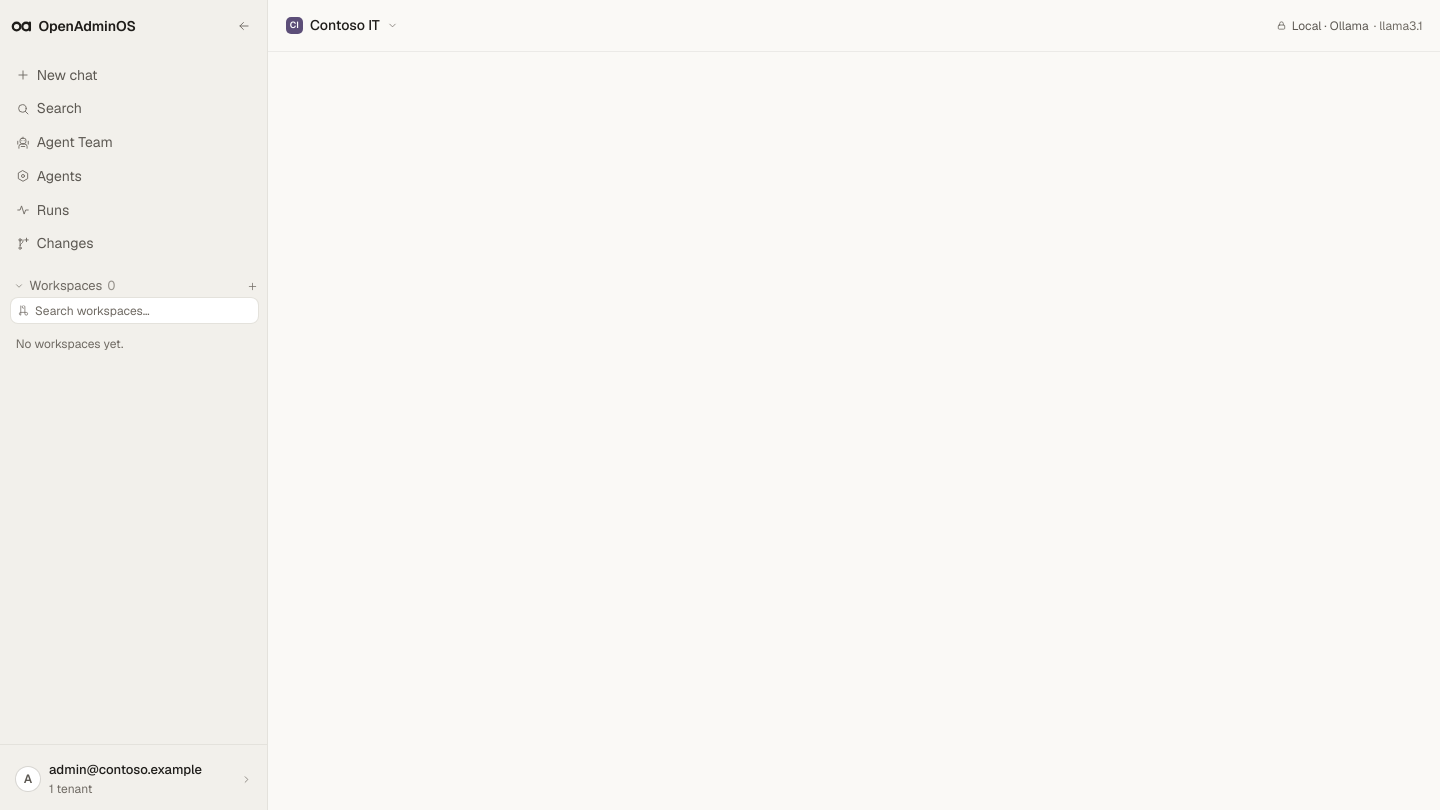
Test: Sidebar › opens the shared keyboard shortcut reference from the account menu
This screenshot has width=1440, height=810.
Click the button "A admin@contoso.example 1 tenant" at (134, 779), box [7,755,261,803]
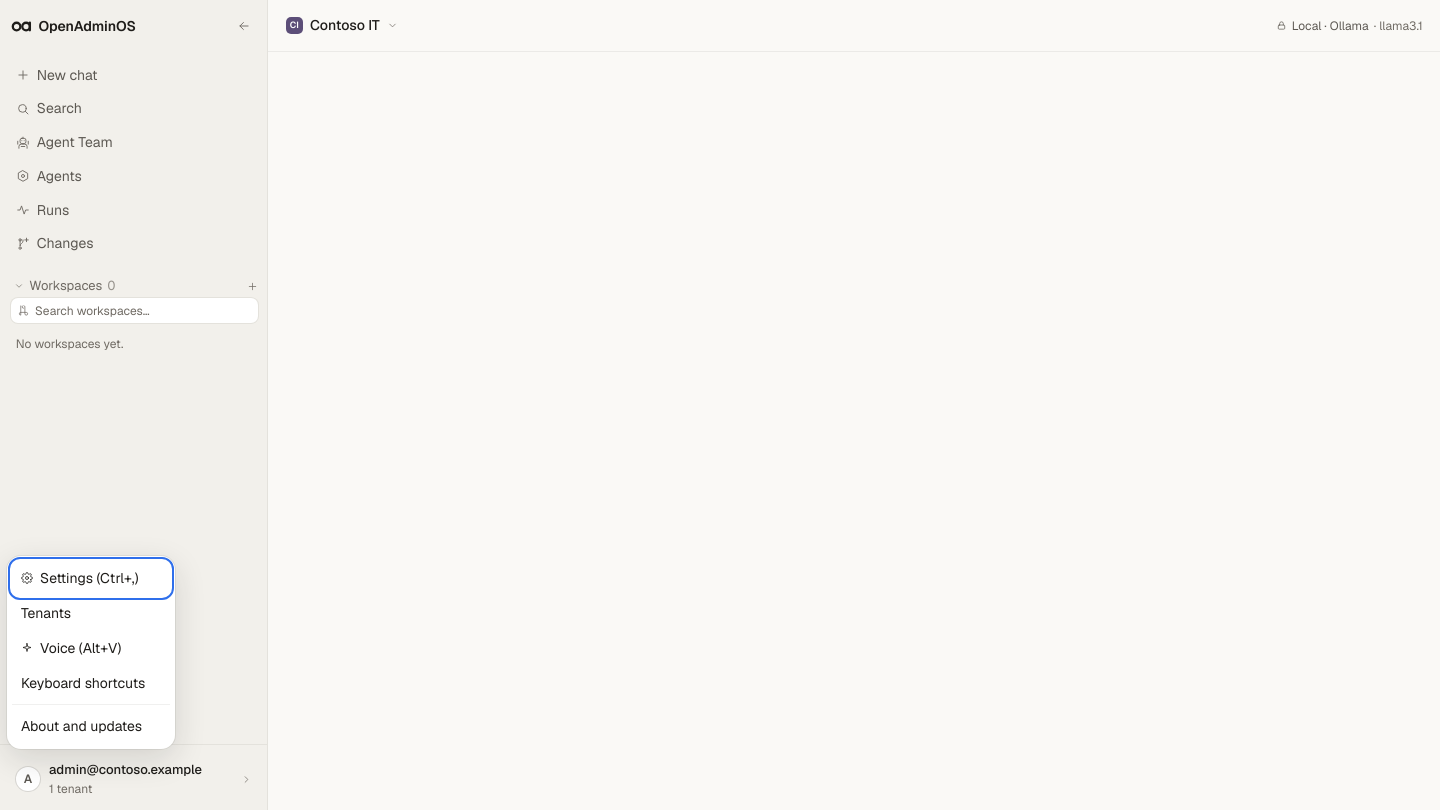
Click the menu item "Keyboard shortcuts" at (91, 683), box [12,666,170,701]
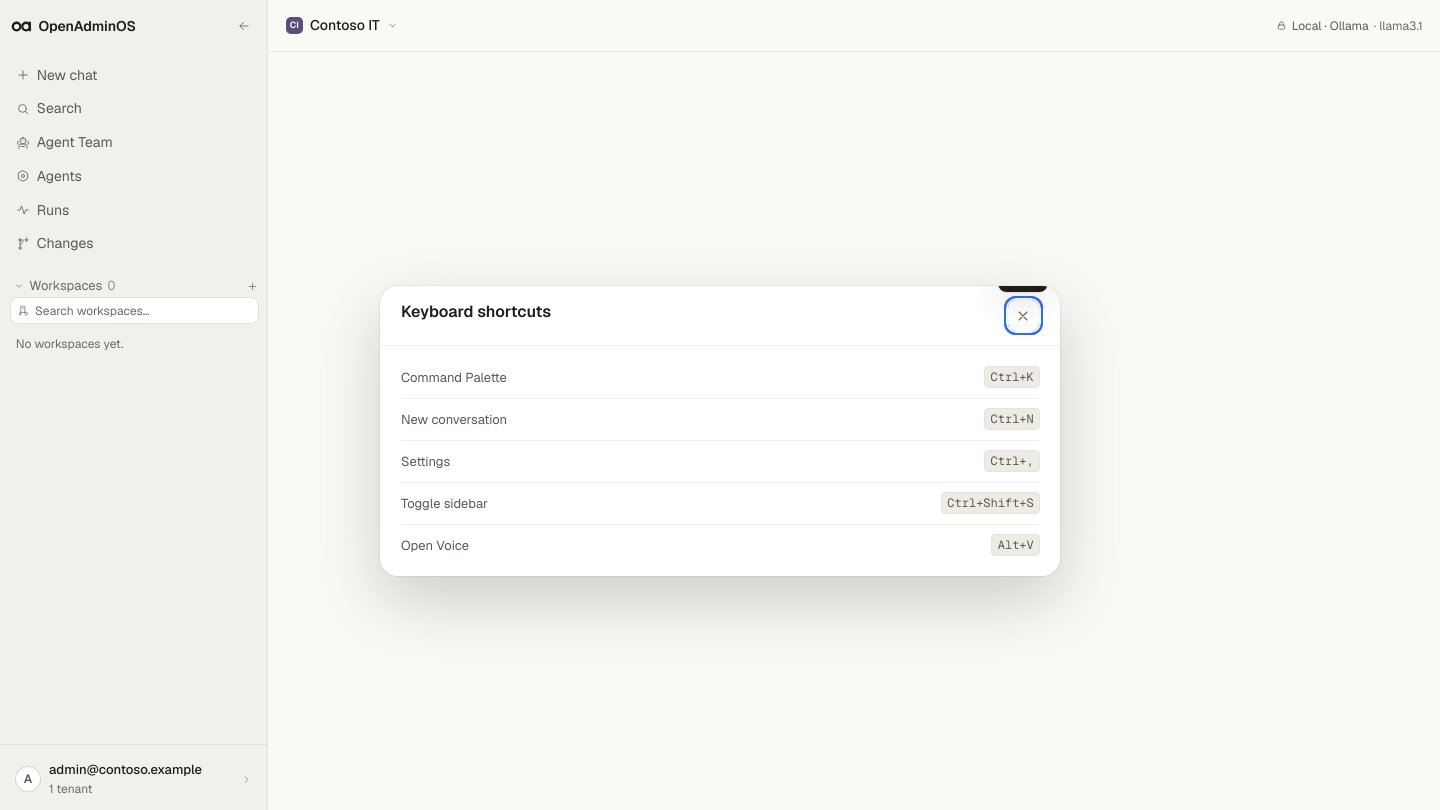
Check: the text "Toggle sidebar" is shown, box [401,494,488,513]
Check: the text "Ctrl+Shift+S" is shown, box [942,493,1039,513]
Check: the text "Open Voice" is shown, box [401,536,469,555]
